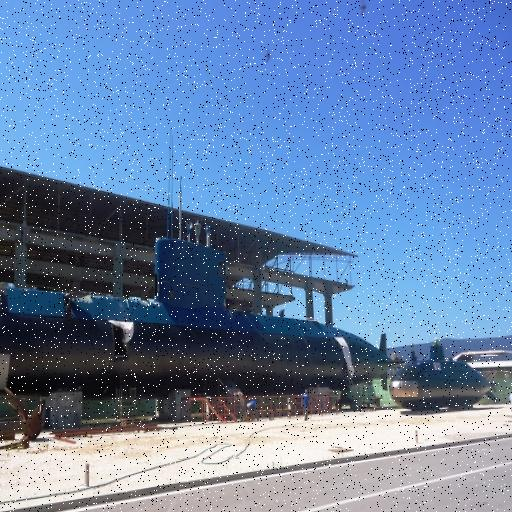submarine: (1, 240, 400, 402), (391, 344, 492, 426)
